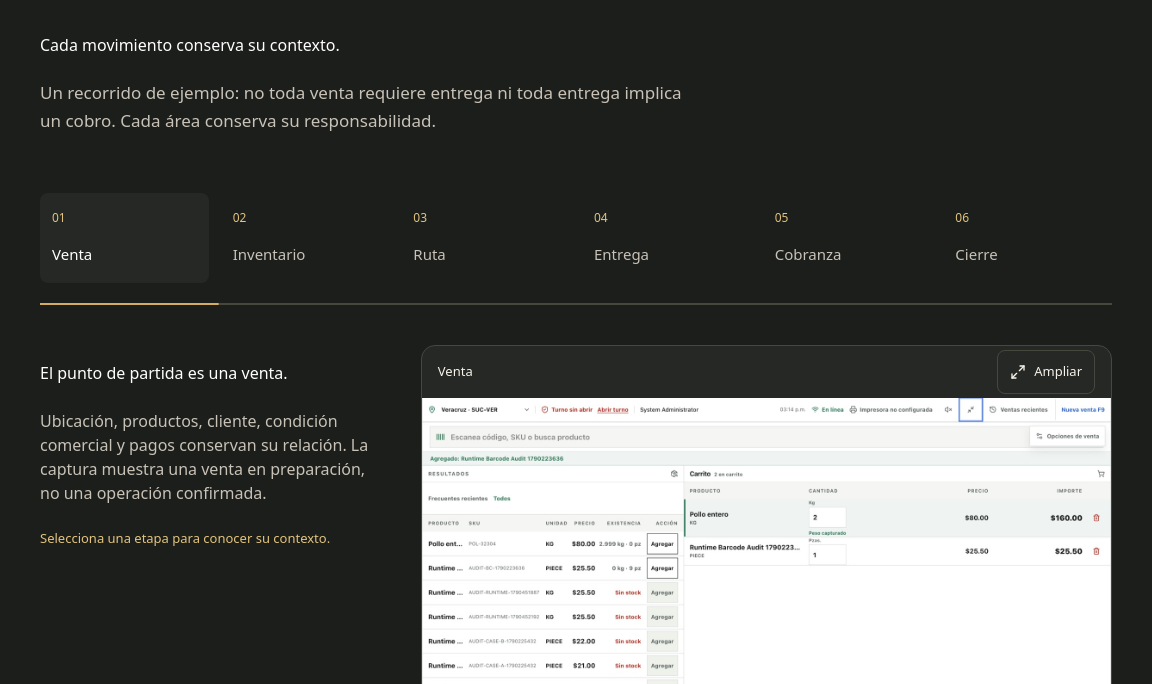
Test: Visible Operations P0 › lets the visitor choose all six operational stages without forcing scroll
The image size is (1152, 684).
Click the button "05 Cobranza" at (847, 238), box [763,193,931,283]
(page scrolled)
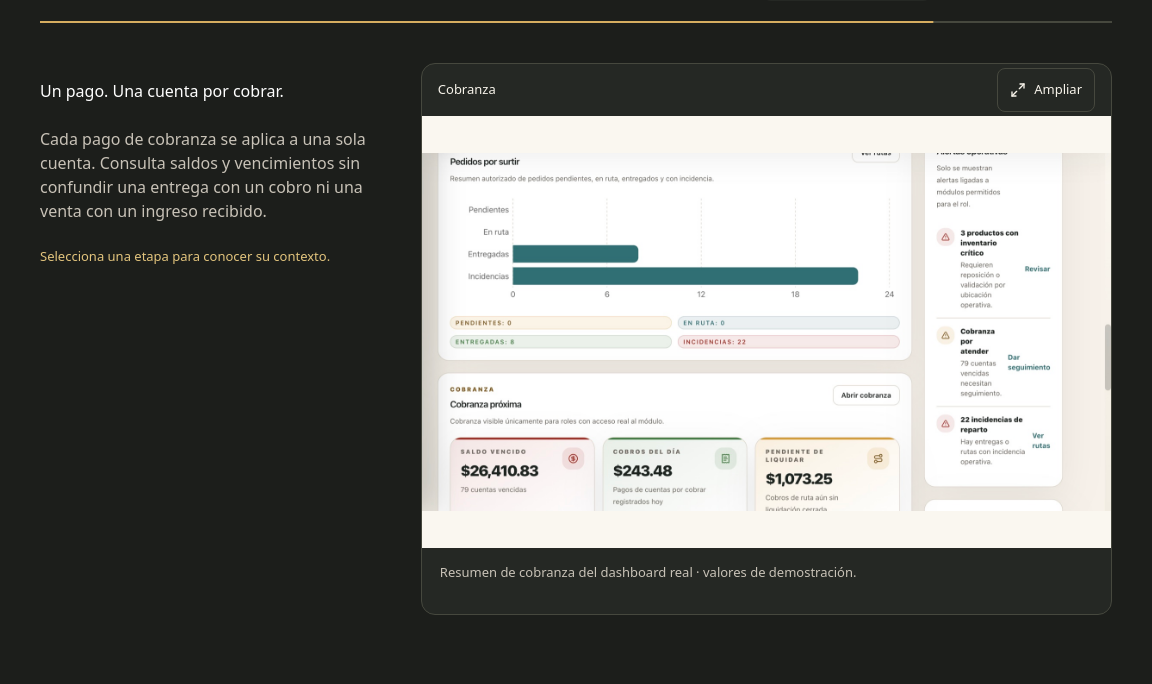
expect the element that starts with "Un pago. Una cuenta por cobrar." shows "una sola cuenta": met, box [40,128,366,222]
